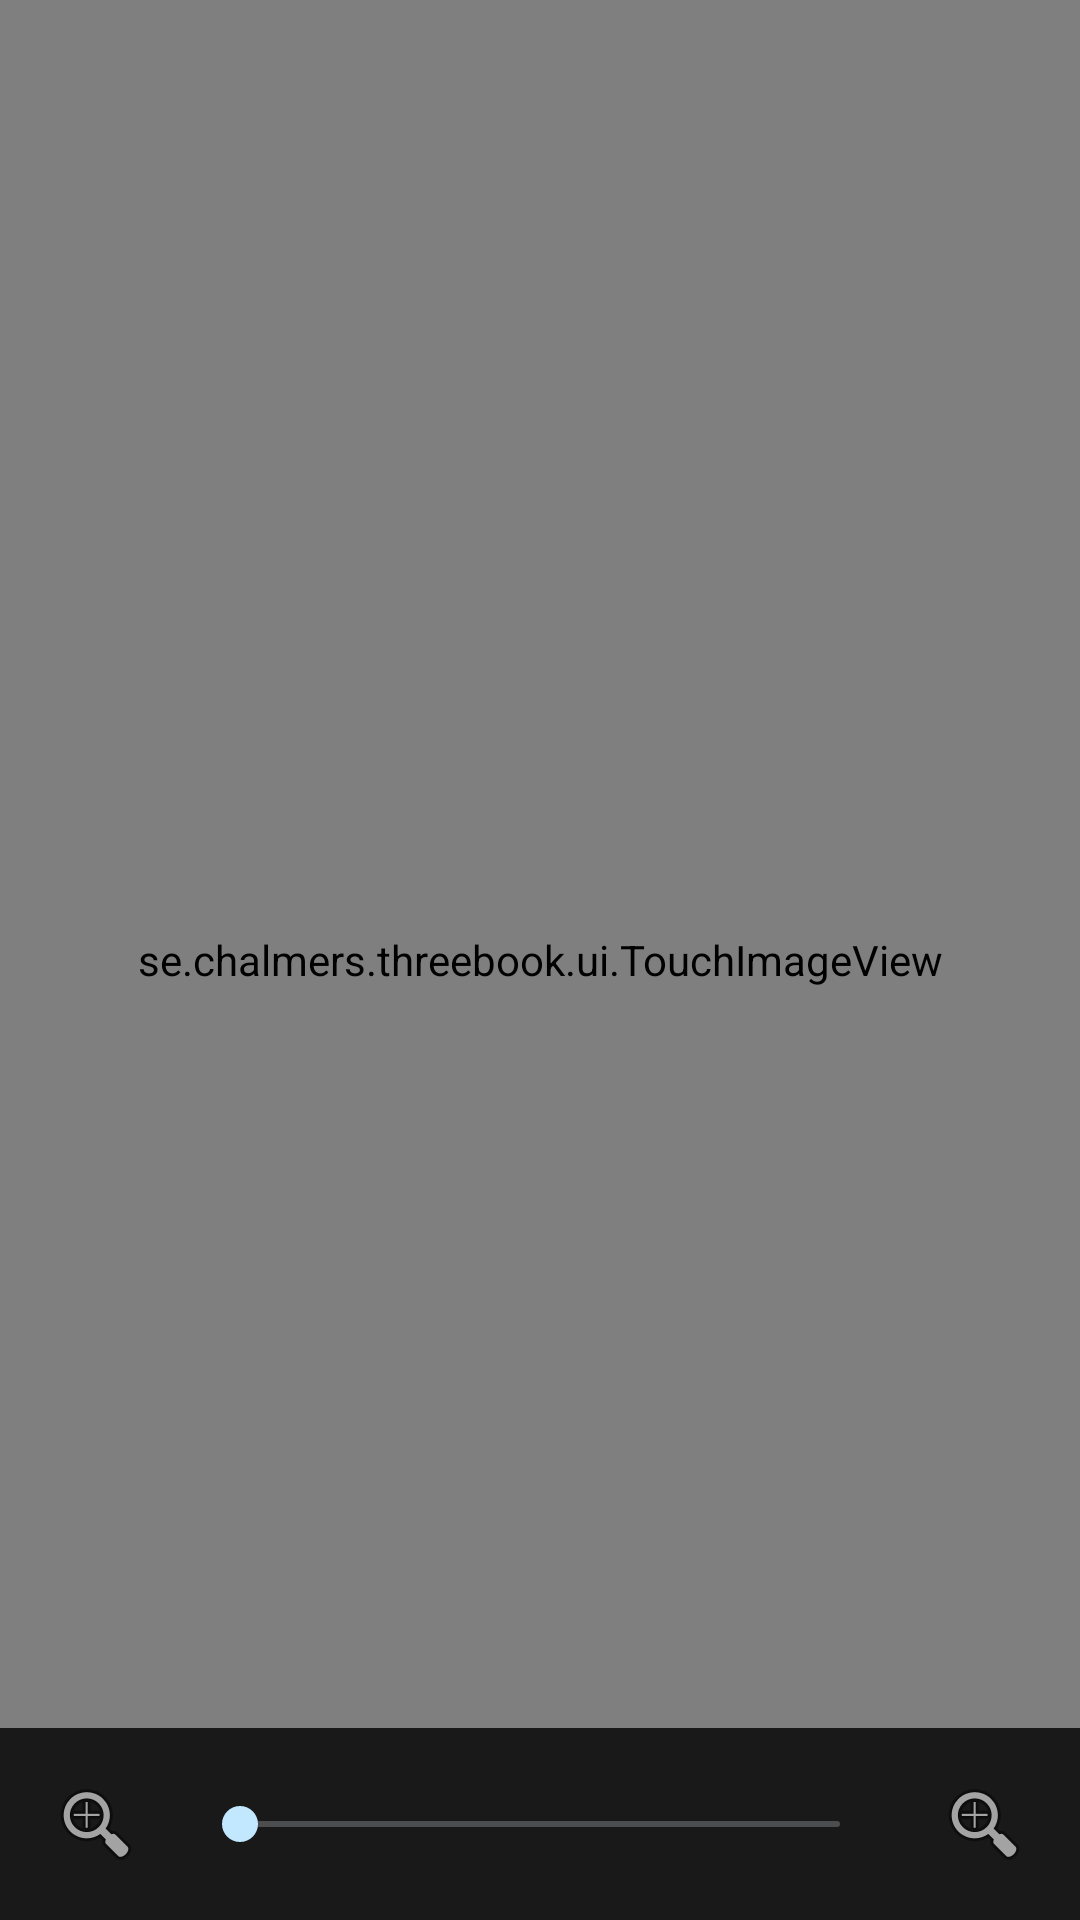

Point at icon controls on the screen. Image size 1080x1920, points as (x=x, y=y).
zoom: (x=96, y=1824), (x=984, y=1824)
